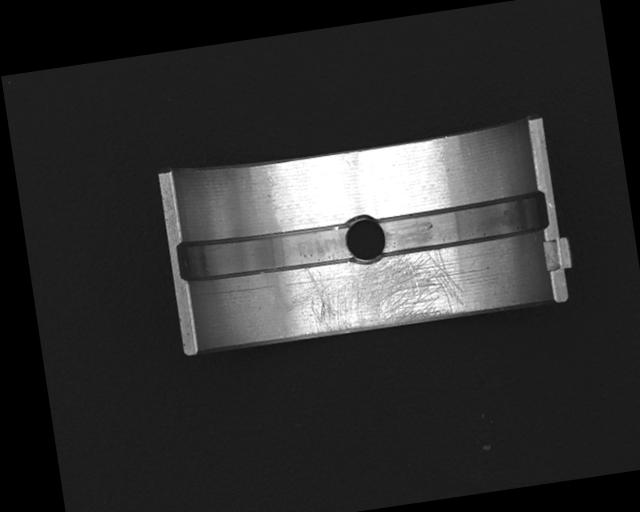gap: (176, 218, 354, 287), (377, 193, 551, 253)
hole: (343, 211, 386, 266)
scratch: (290, 245, 467, 337)
